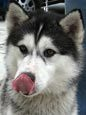dog: (0, 4, 85, 114)
